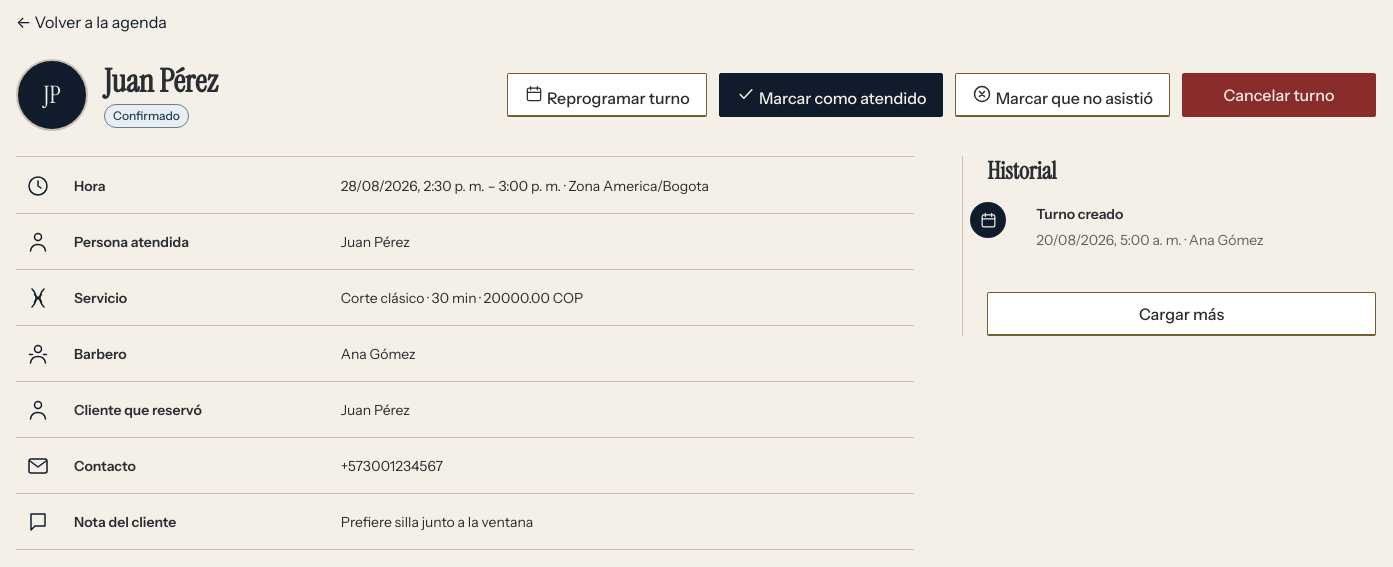
Scenario: AppointmentDetailPage › shows a "Cargar más" button when the history has a next page, and loads it
The image size is (1393, 567).
Step 1. Click the button "Cargar más" → (1182, 314), box [987,292,1376,336]
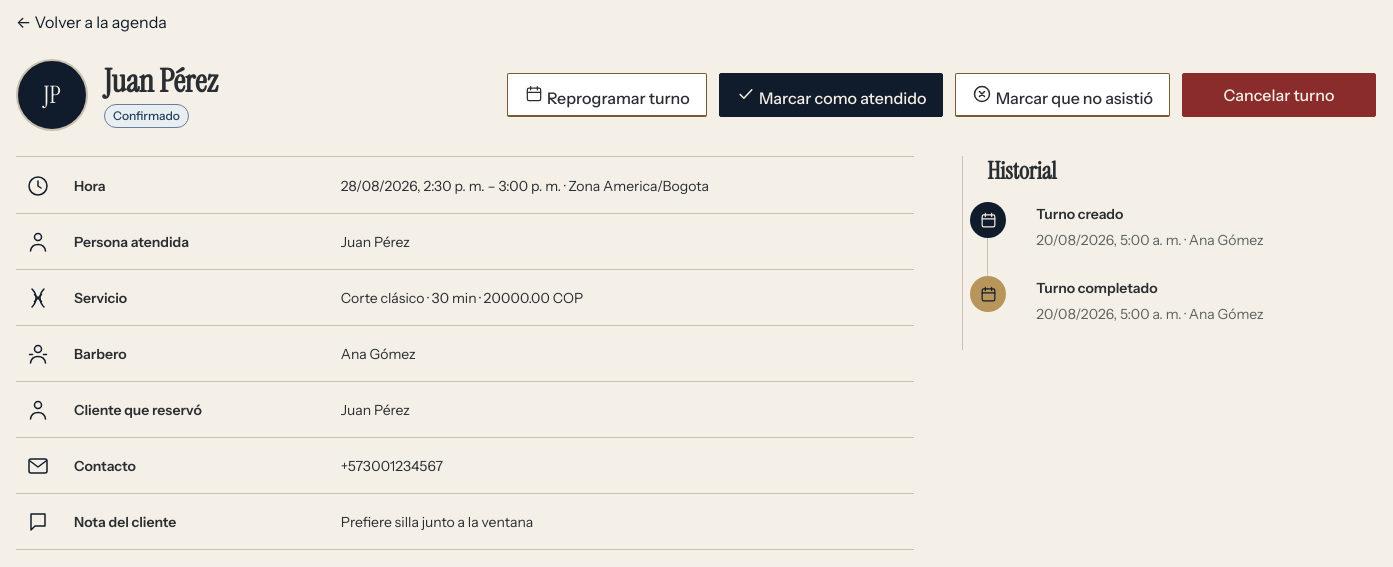
Expected: the text "Turno creado" is shown, [1036,205,1123,223]
Now the text "Turno completado" is shown, box [1036,279,1158,297]
